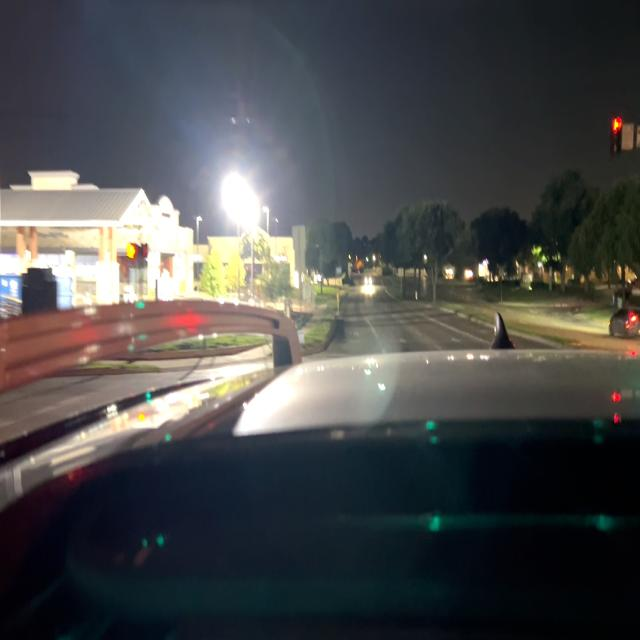back-of-sign: (292, 227, 306, 268)
